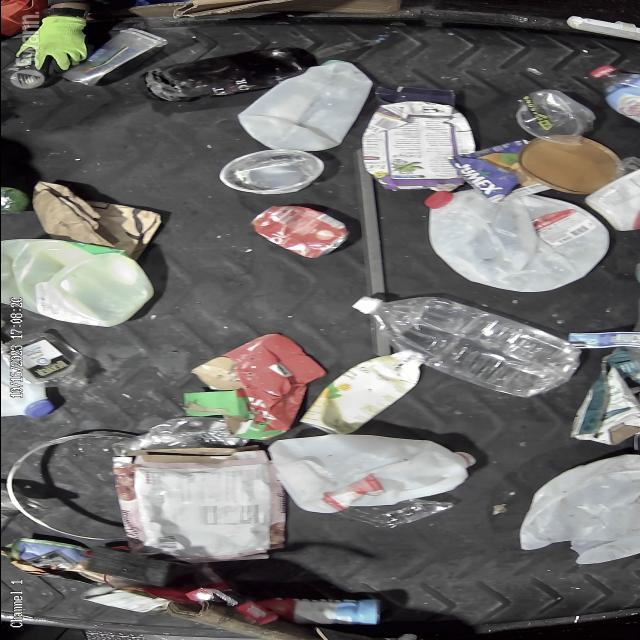can: (241, 201, 346, 256)
milk_jug: (419, 188, 595, 294), (259, 434, 481, 510), (515, 454, 640, 562), (238, 64, 378, 154)
plastic_bottle: (342, 290, 564, 395)
